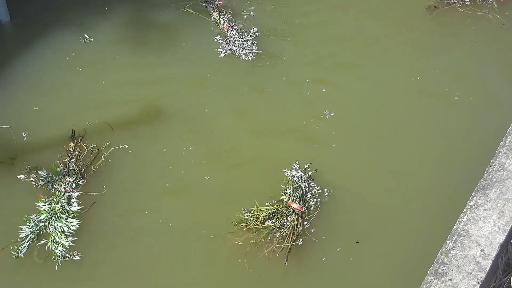twig: (0, 122, 123, 268), (217, 160, 347, 257), (188, 0, 269, 67), (429, 0, 512, 15)
